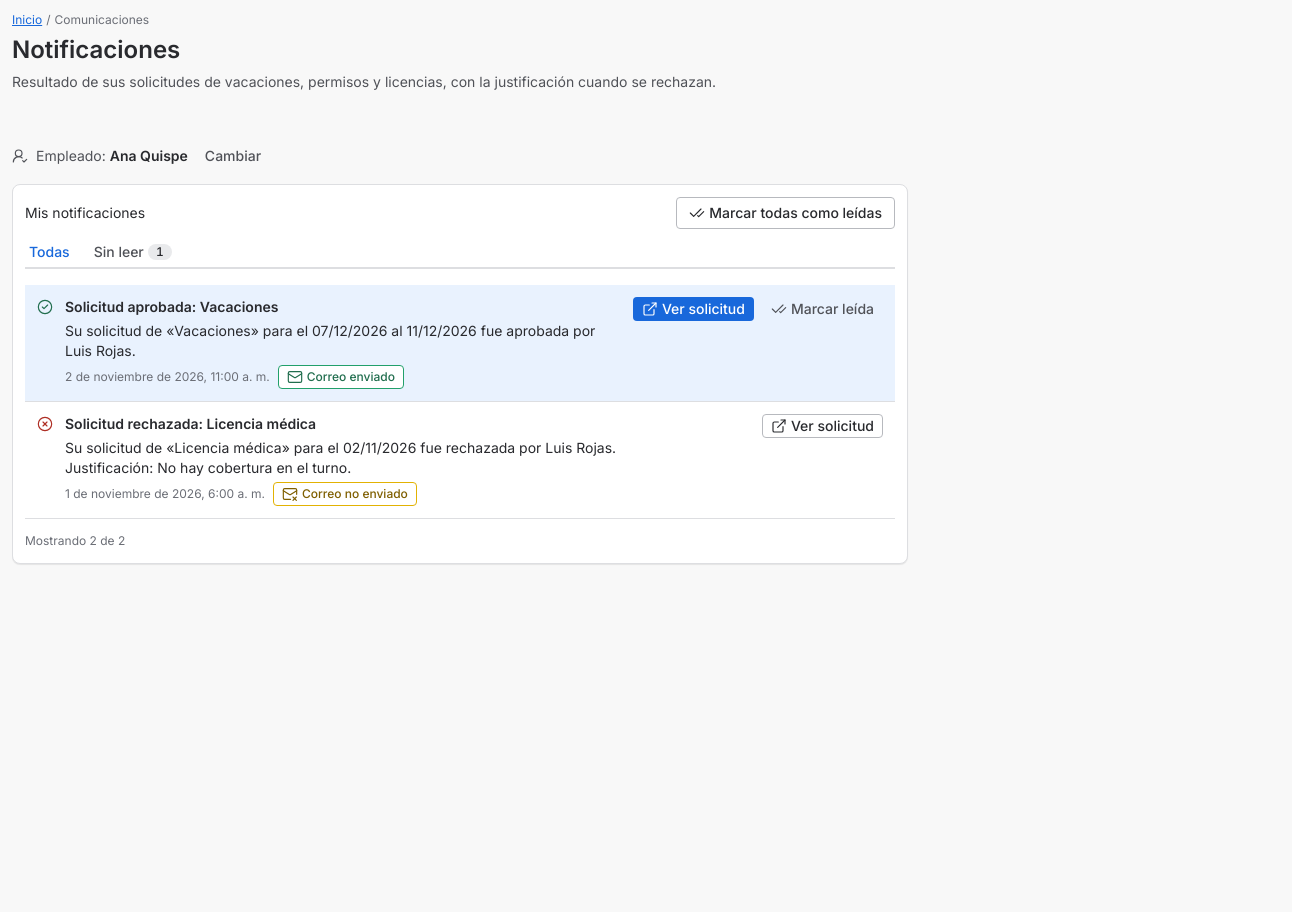
Test: Vista de notificaciones › si el servidor falla al marcar, devuelve la alerta a «sin leer» y lo informa
Click the button with aria-label "Marcar como leída: Solicitud aprobada": click(822, 309) [762, 297, 883, 321]
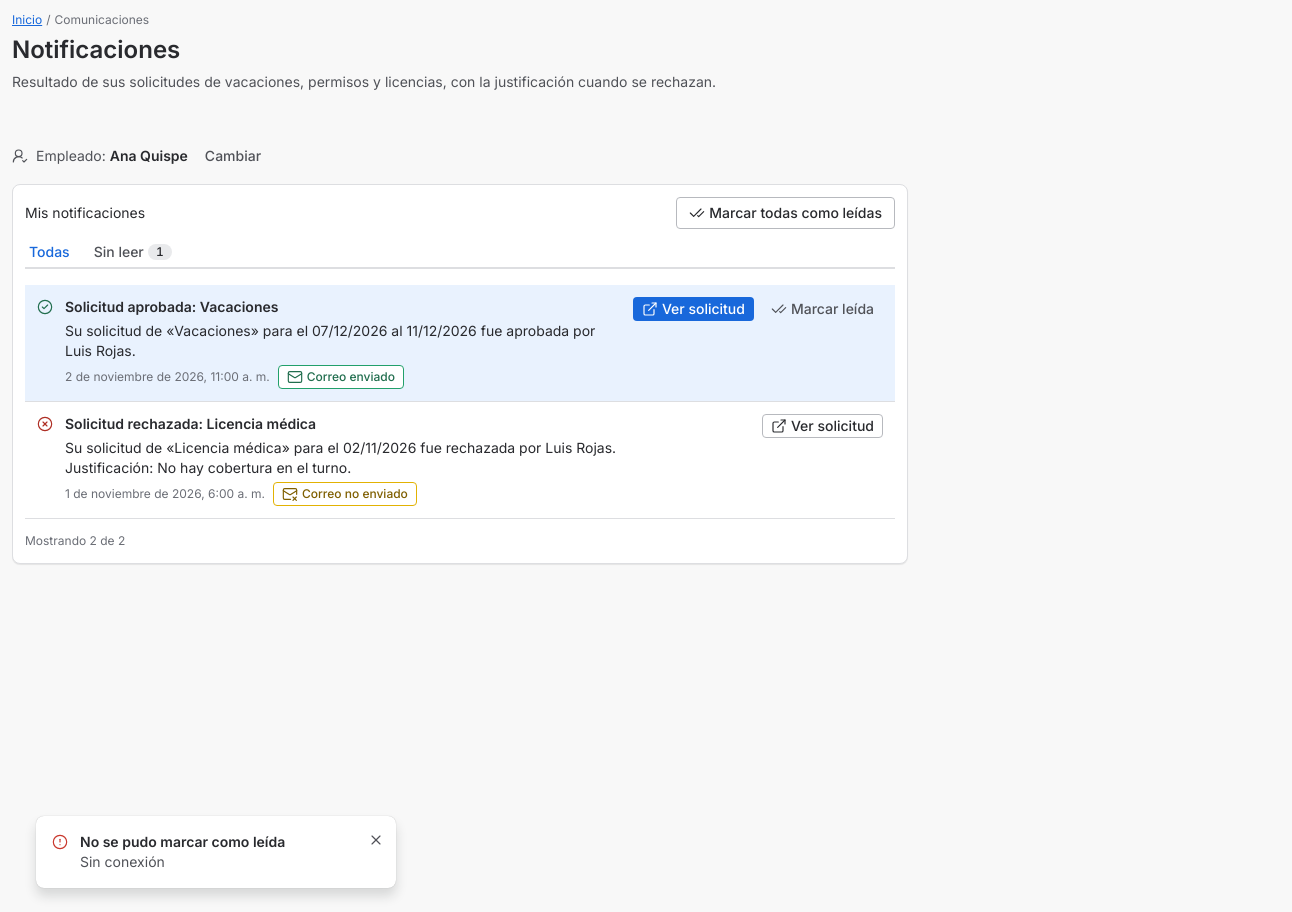
Expected: the text "No se pudo marcar como leída" is shown, [80, 833, 285, 850]
